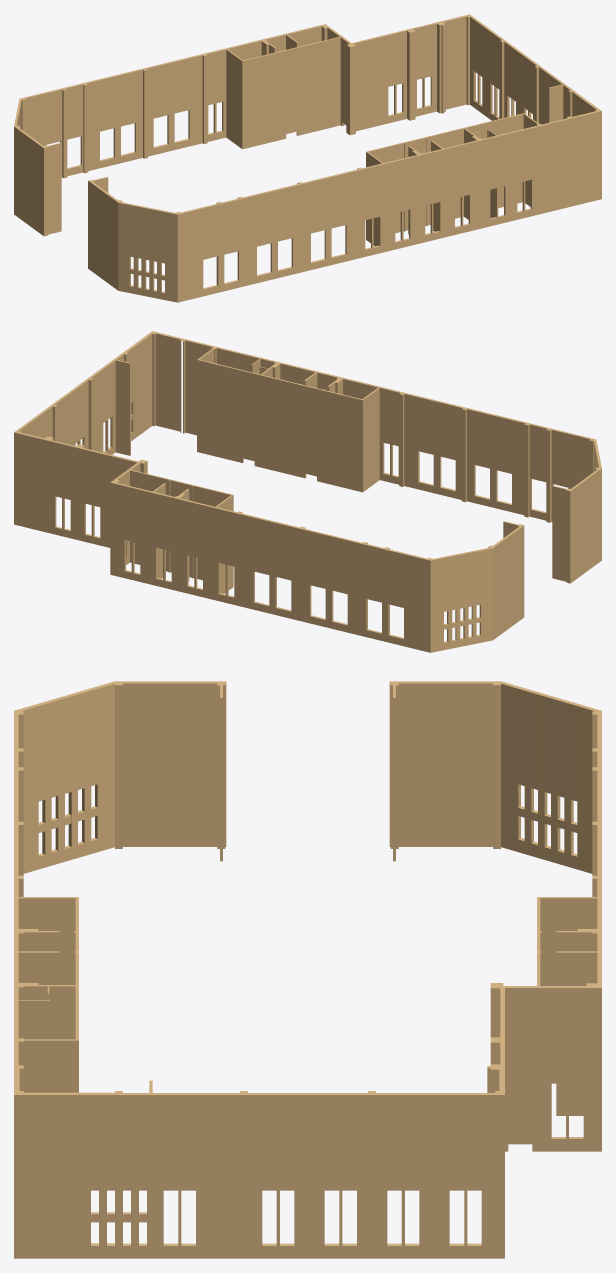
3 views of the same model, one above another, from view 1: azimuth 30°, elevation 25°; view 2: azimuth 150°, elevation 25°; view 3: azimuth 270°, elevation 25° (orthographic). The views are drawn at different scales.
Parts seen in each view (by area): view 1: 对象001_网格.002_网格.002; view 2: 对象001_网格.002_网格.002; view 3: 对象001_网格.002_网格.002.
Part boxes in pixels (x1,y1,x2,y2): 对象001_网格.002_网格.002: [14, 14, 601, 302]; 对象001_网格.002_网格.002: [14, 331, 601, 652]; 对象001_网格.002_网格.002: [14, 681, 601, 1258].
Size of the model in its own units: 61.1 by 11.26 by 36.7.
